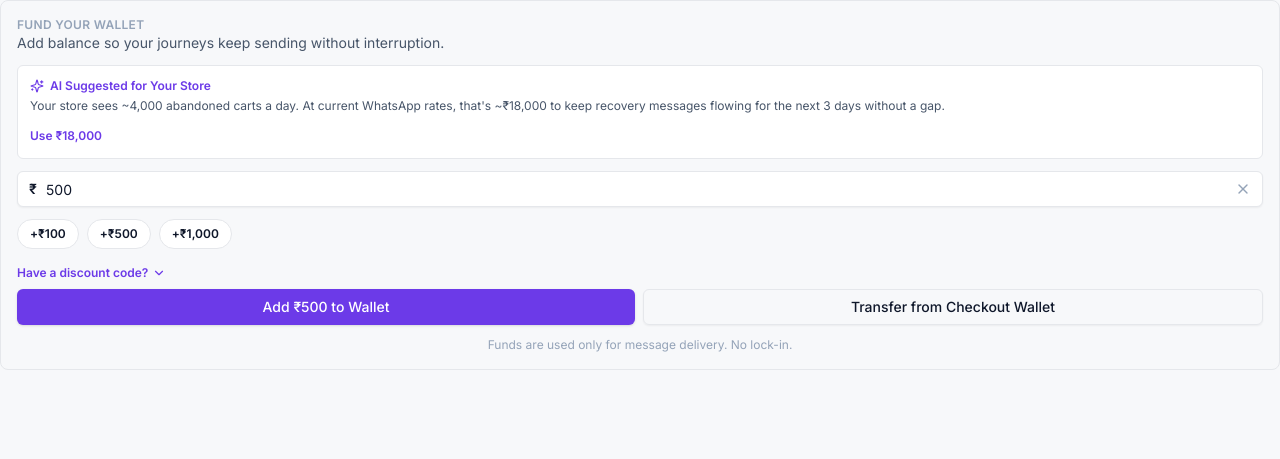
Test: WalletRechargeCard › applying a valid coupon shows the bonus breakdown and credits the bonus amount to the wallet
Later steps or results of the test are not shown.
Click the button with test id "wallet-recharge-discount-toggle" at (92, 273), box x1=17 y1=265 x2=166 y2=281
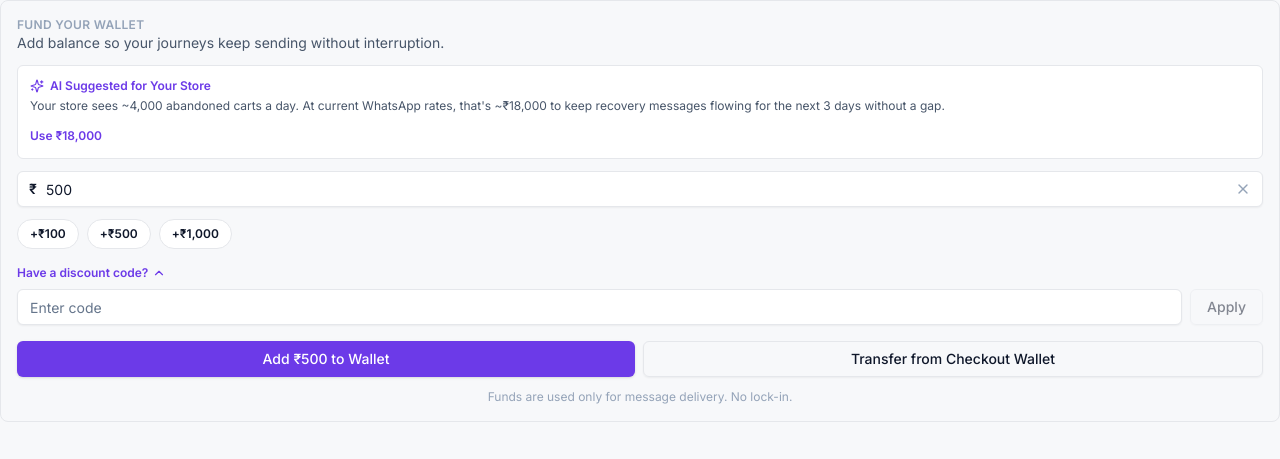
Type "welcome10" into the field with test id "wallet-recharge-coupon-input" at (600, 307), box x1=17 y1=289 x2=1182 y2=325
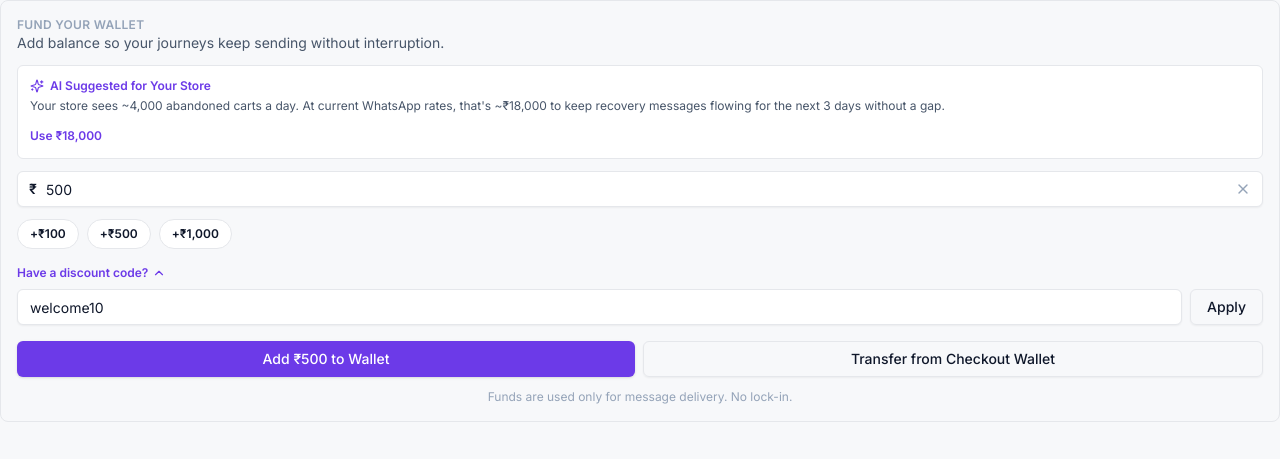
Click the button with test id "wallet-recharge-coupon-apply" at (1227, 307), box x1=1190 y1=289 x2=1263 y2=325
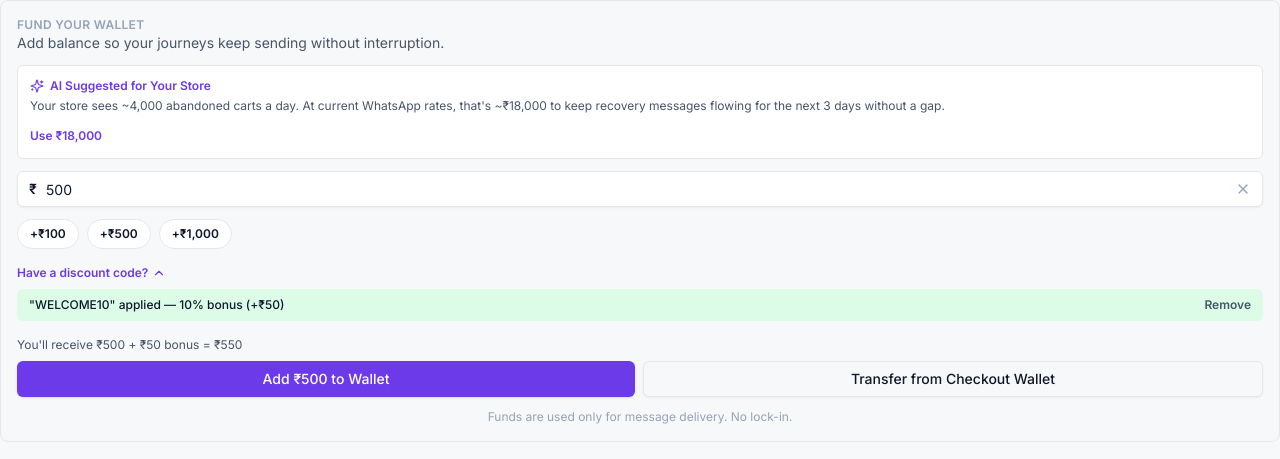
Expected: the element with test id "wallet-recharge-coupon-applied" shows "\"WELCOME10\" applied — 10% bonus (+₹50)", x1=29 y1=297 x2=284 y2=312
Expected: the text with test id "wallet-recharge-total-breakdown" reads "You'll receive ₹500 + ₹50 bonus = ₹550", x1=17 y1=337 x2=242 y2=352
